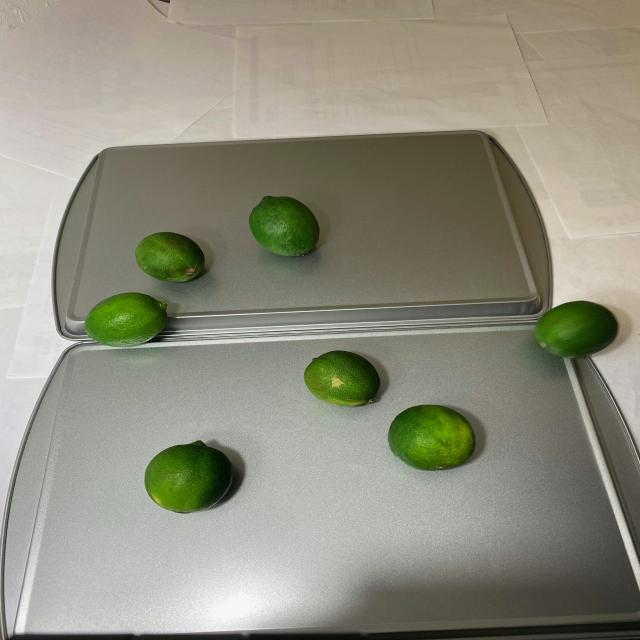lemon: (143, 303, 617, 521), (86, 196, 326, 358)
